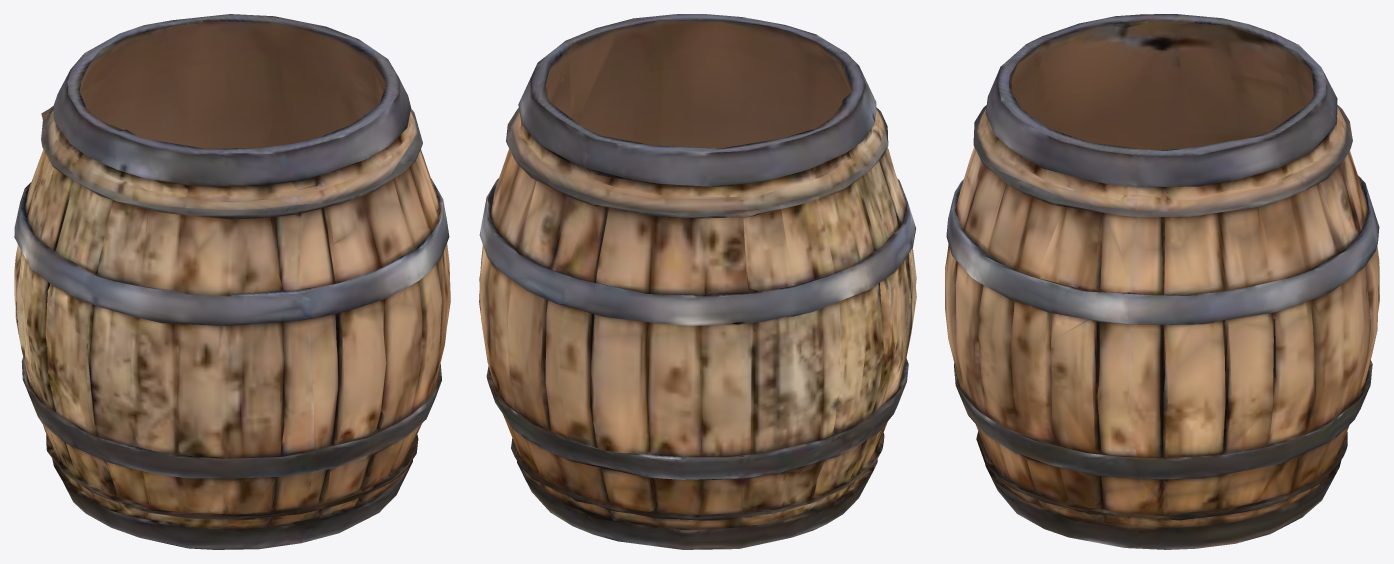
The model's file is 0729_barrel.glb.
3 renders of one model, left to right at view 1: azimuth 30°, elevation 25°; view 2: azimuth 150°, elevation 25°; view 3: azimuth 270°, elevation 25°, orthographic.
Parts seen in each view (by area): view 1: model; view 2: model; view 3: model.
Part boxes in pixels (bbox=[...]): model: bbox=[14, 14, 450, 549]; model: bbox=[479, 14, 916, 549]; model: bbox=[945, 14, 1379, 549].
Size of the model in its own units: 1.82 by 1.83 by 1.82.
Materials: 1 (1 with a texture image).
